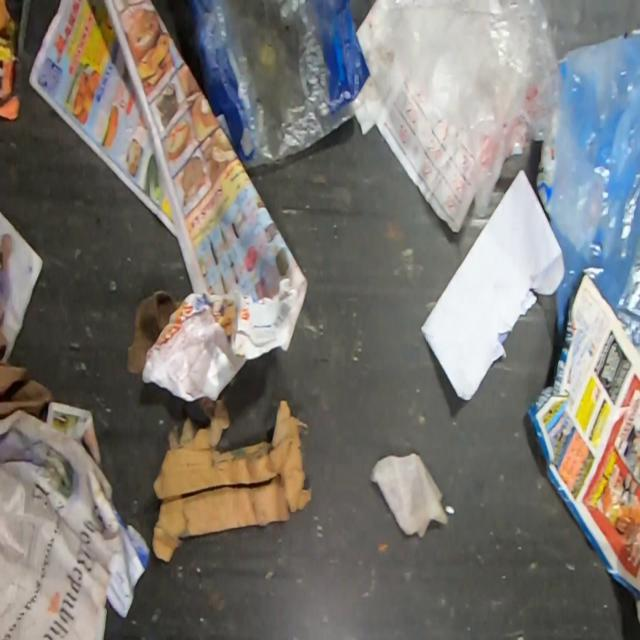cardboard: (152, 393, 312, 563), (0, 329, 57, 421), (125, 290, 182, 374), (536, 100, 557, 218)
soft_plastic: (379, 0, 562, 221), (187, 0, 382, 173), (550, 30, 640, 357)
